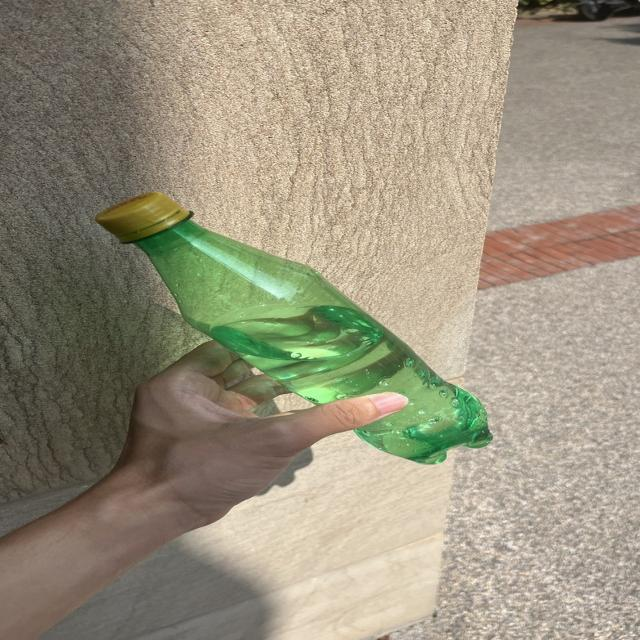medium: (96, 193, 490, 463)
